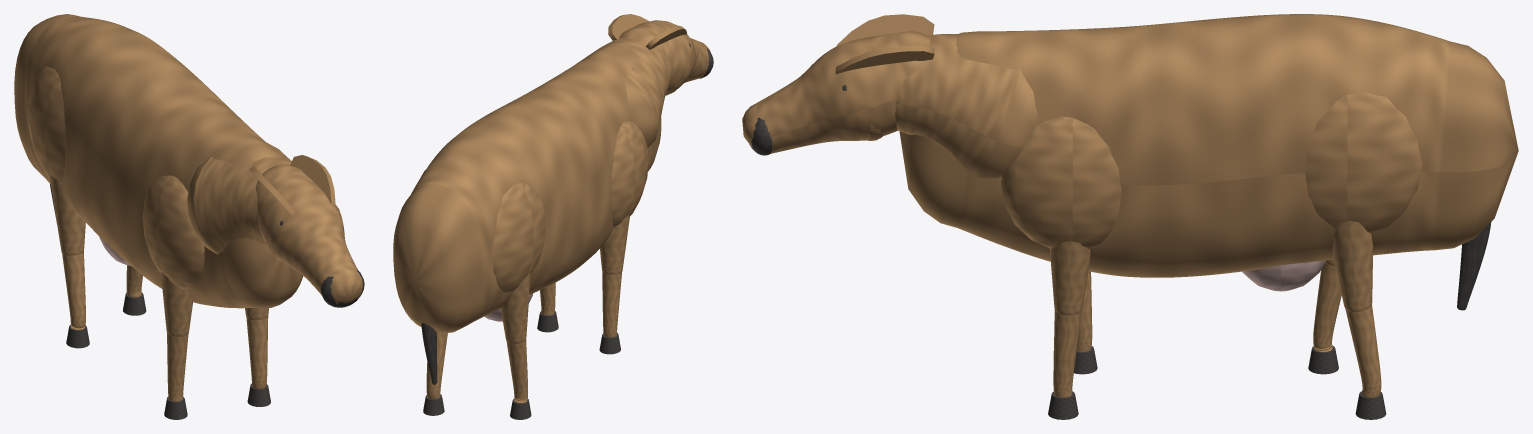
File: cow-jersey.glb
The picture shows the model from 3 angles, left to right: view 1: azimuth 30°, elevation 25°; view 2: azimuth 150°, elevation 25°; view 3: azimuth 270°, elevation 25°; orthographic projection. The views are drawn at different scales.
Parts seen in each view (by area): view 1: dairy-cow-jersey; view 2: dairy-cow-jersey; view 3: dairy-cow-jersey.
Boxes of the visible parts, box(x1,y1,x2,y2) form: dairy-cow-jersey: box(14, 14, 364, 419); dairy-cow-jersey: box(393, 14, 713, 419); dairy-cow-jersey: box(742, 14, 1518, 419).
Bounding box in the file's own units: 0.6262 × 1.44 × 2.76.
Materials: 3 (3 with a texture image).
